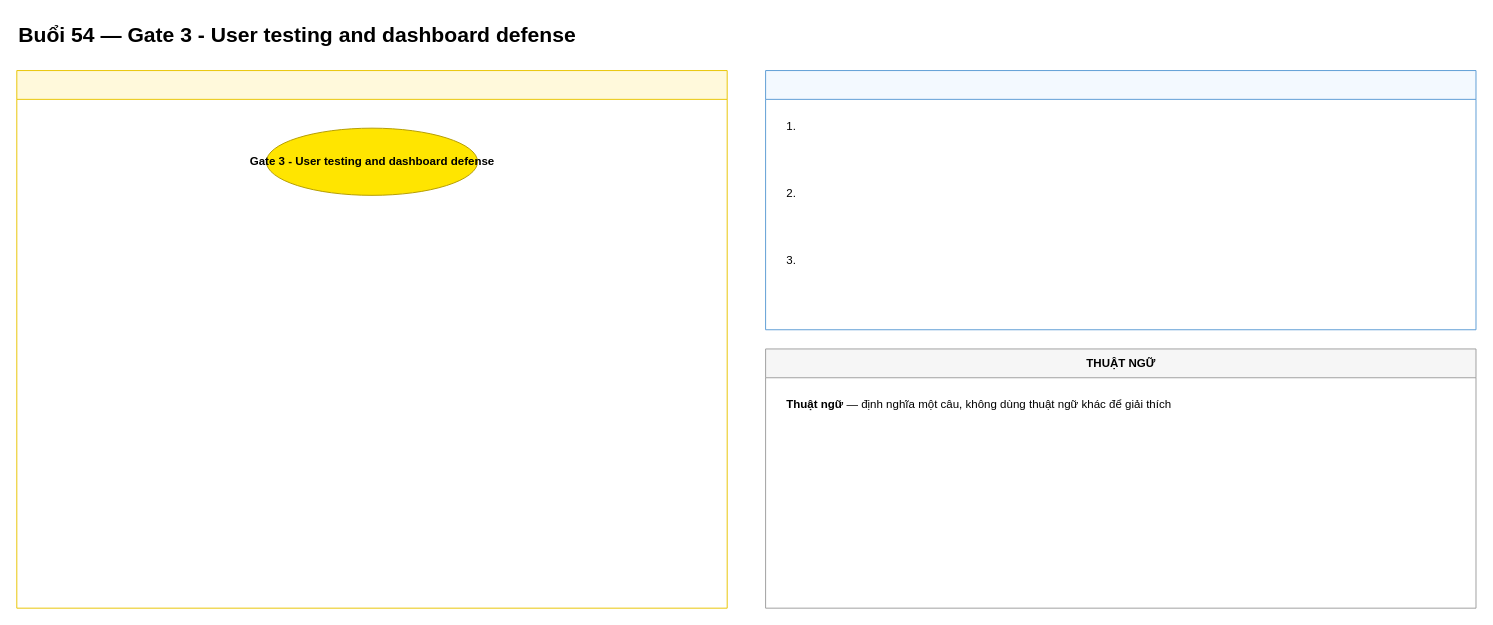
The diagram is 1493 pixels wide and 625 high, and some of its shapes have lost their labels. The box of each missing label's shape, as (x1, y1, x2, y2) in pixels:
KEY TAKEAWAY — ba điều phải nhớ: (765, 70, 1476, 330)
MINDMAP: (16, 70, 727, 608)
